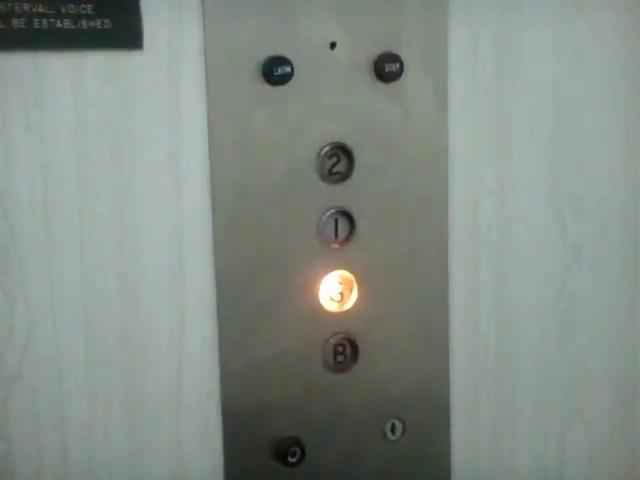1: (314, 204, 359, 251)
2: (312, 138, 357, 185)
B: (316, 329, 361, 376)
G: (314, 267, 359, 314)
blur: (258, 51, 295, 87), (369, 47, 406, 83)
